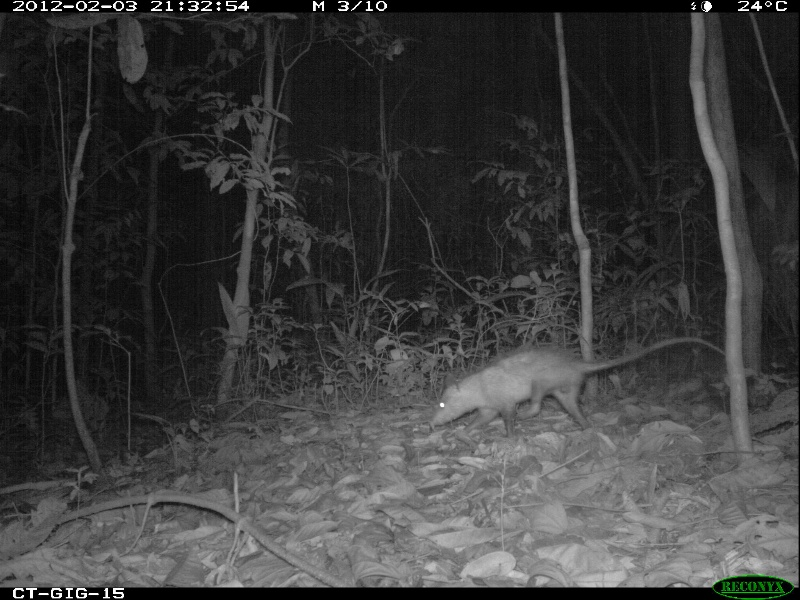opossum: (427, 325, 734, 441)
